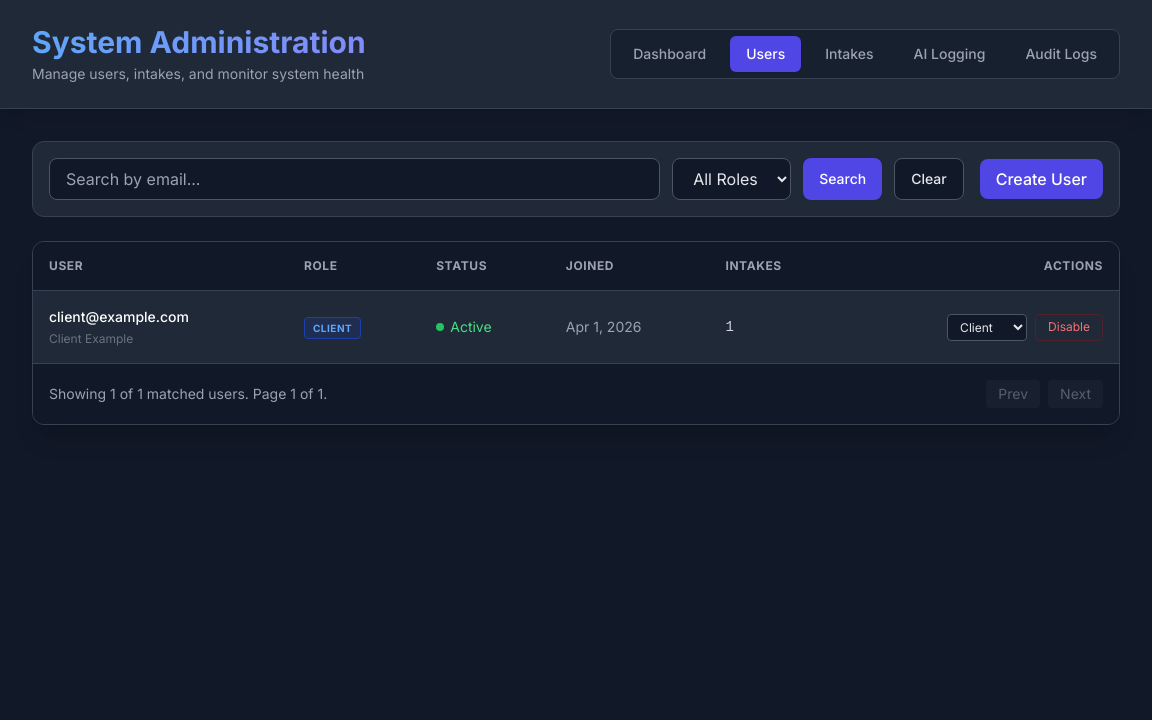
AdminPanel › resets the create-user form on cancel
Click the button with id "admin-open-create-user" at (1041, 179), box [980,159,1103,199]
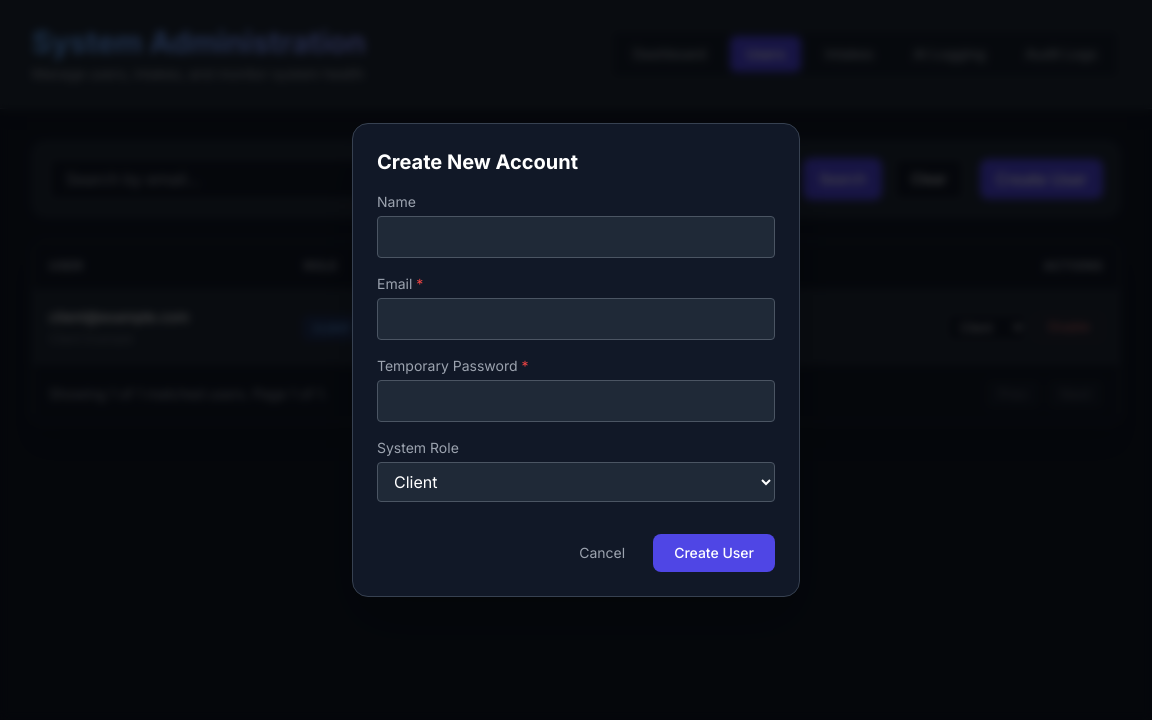
Type "New Admin" into the field with id "admin-create-user-name" at (576, 237), box [377,216,775,258]
Type "new@example.com" into the field with id "admin-create-user-email" at (576, 319), box [377,298,775,340]
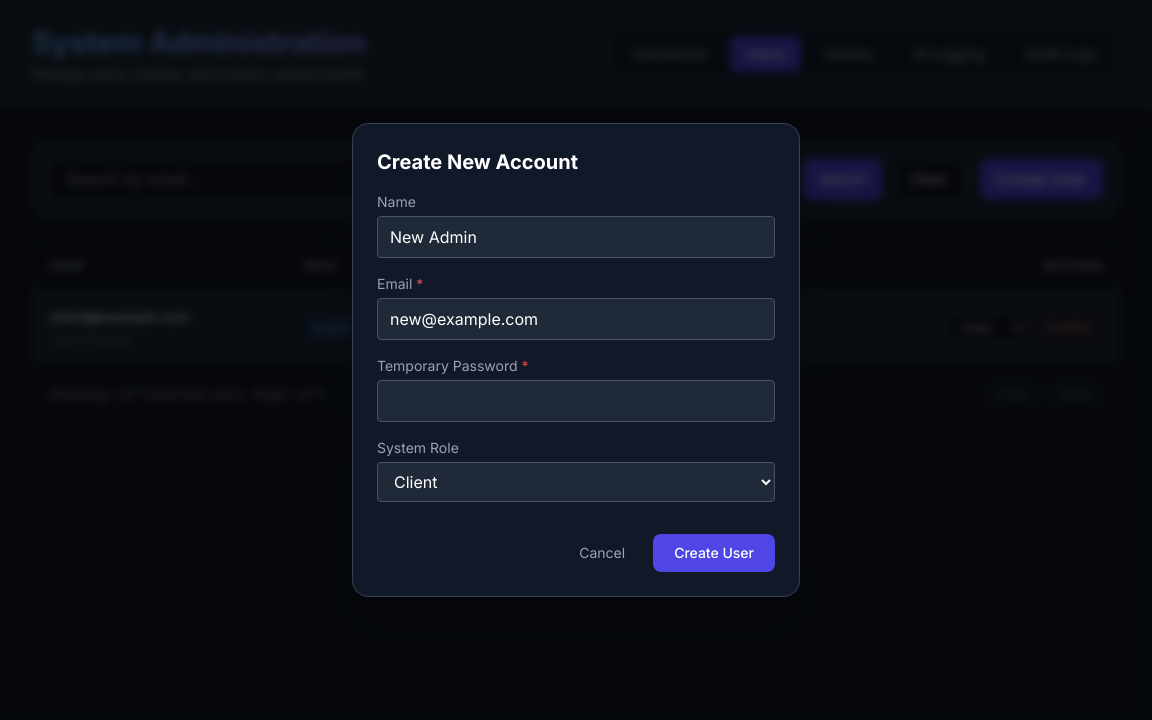
Type "secret" into the password field with id "admin-create-user-password" at (576, 401), box [377,380,775,422]
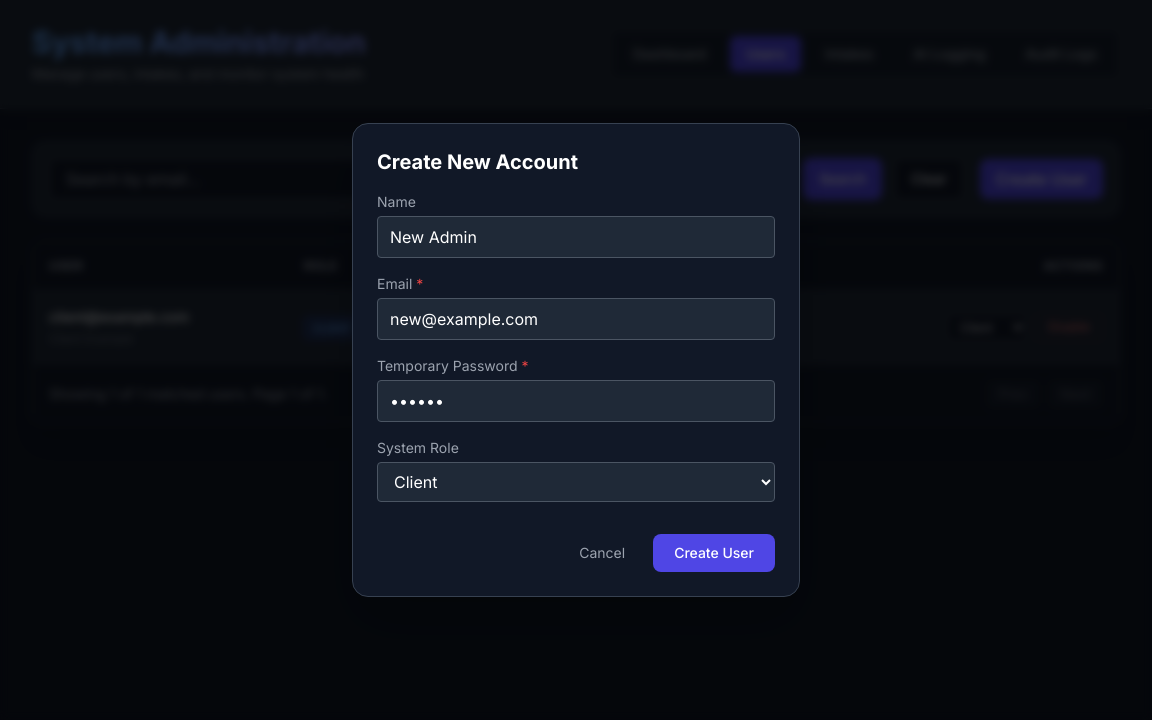
Select "Lawyer" in the dropdown with id "admin-create-user-role" at (576, 482), box [377,462,775,502]
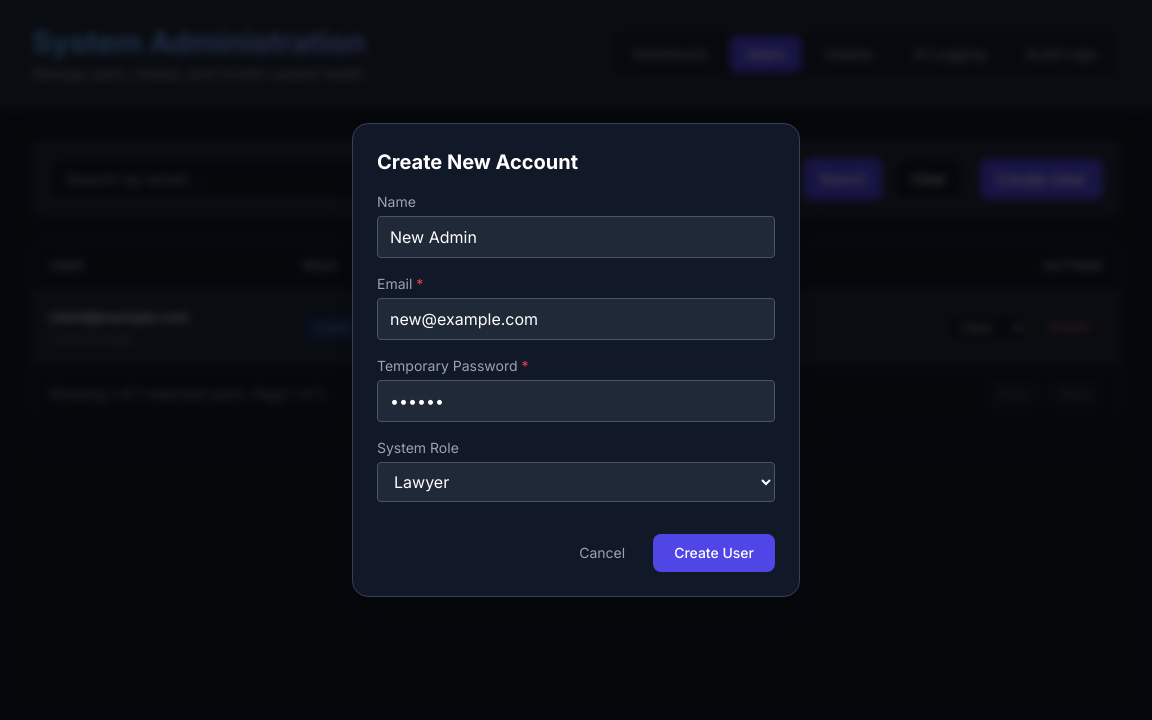
Click the button with id "admin-create-user-cancel" at (602, 553), box [563,534,641,572]
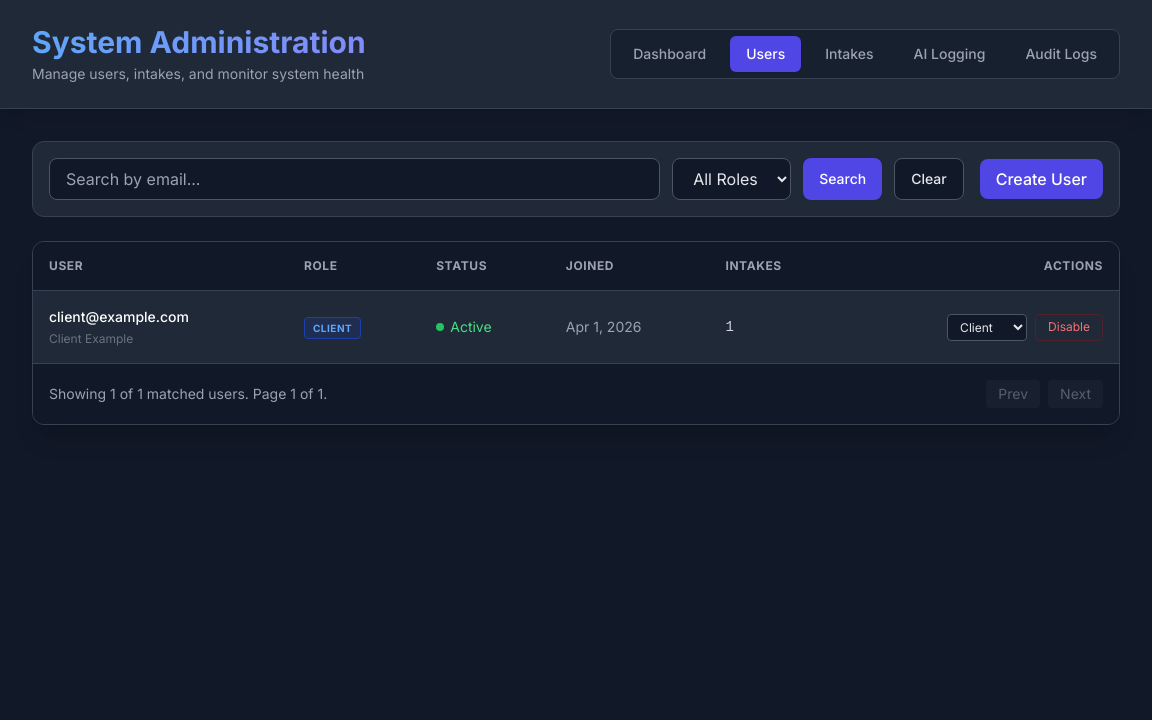
Click the button with id "admin-open-create-user" at (1041, 179), box [980,159,1103,199]
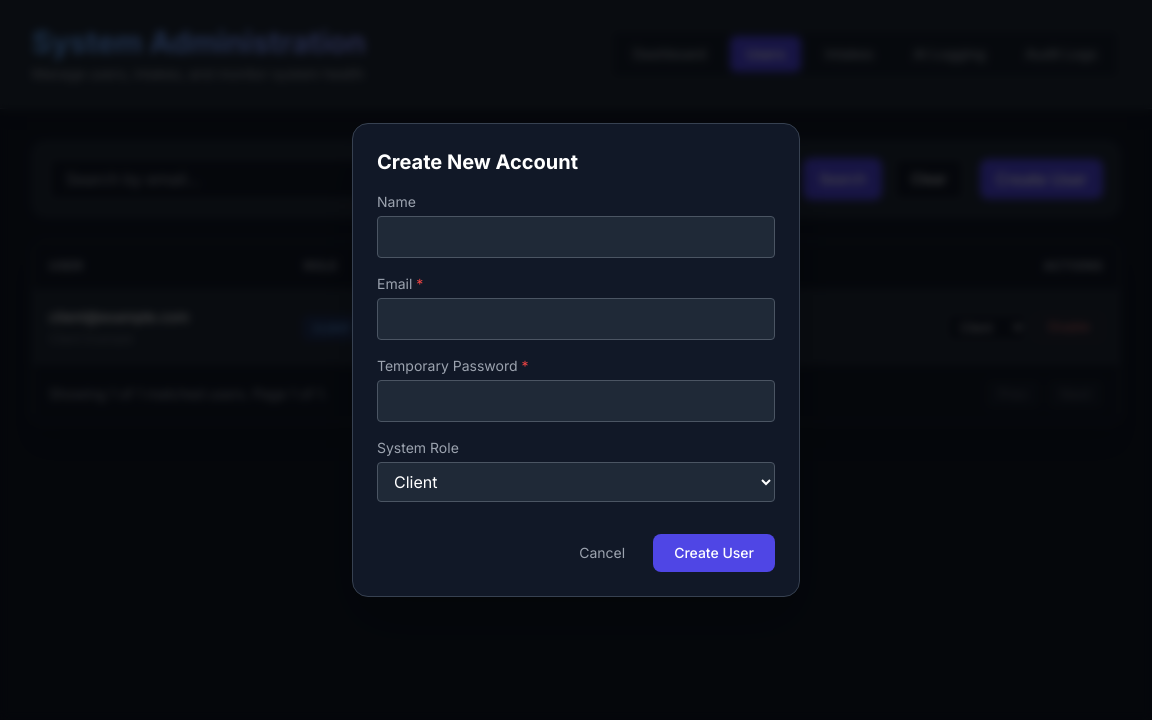
Expected: the field with id "admin-create-user-name" is empty, [377,216,775,258]
Expected: the field with id "admin-create-user-email" is empty, [377,298,775,340]
Expected: the dropdown with id "admin-create-user-role" shows "Client", [377,462,775,502]
